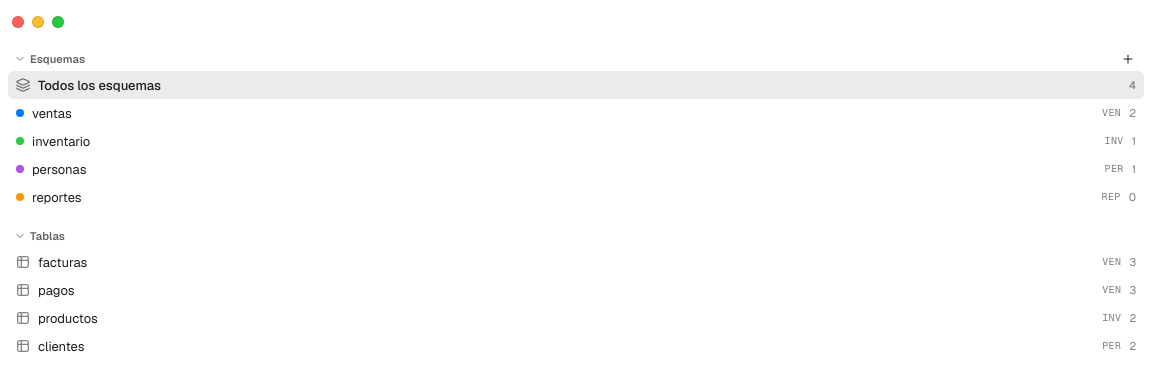
Test case: ModelSidebar › un esquema vacío enfocado dice que no tiene tablas (US5 esc. 7)
Click the option with aria-label "reportes, sin tablas". click: click(57, 197)
box: 8,183 -> 1144,211
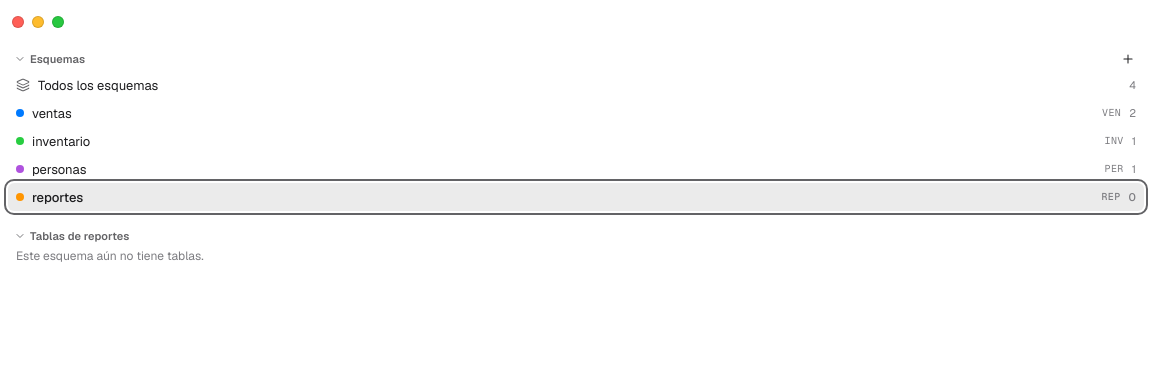
Result: the text "Este esquema aún no tiene tablas." is shown at 16,248 -> 204,264
